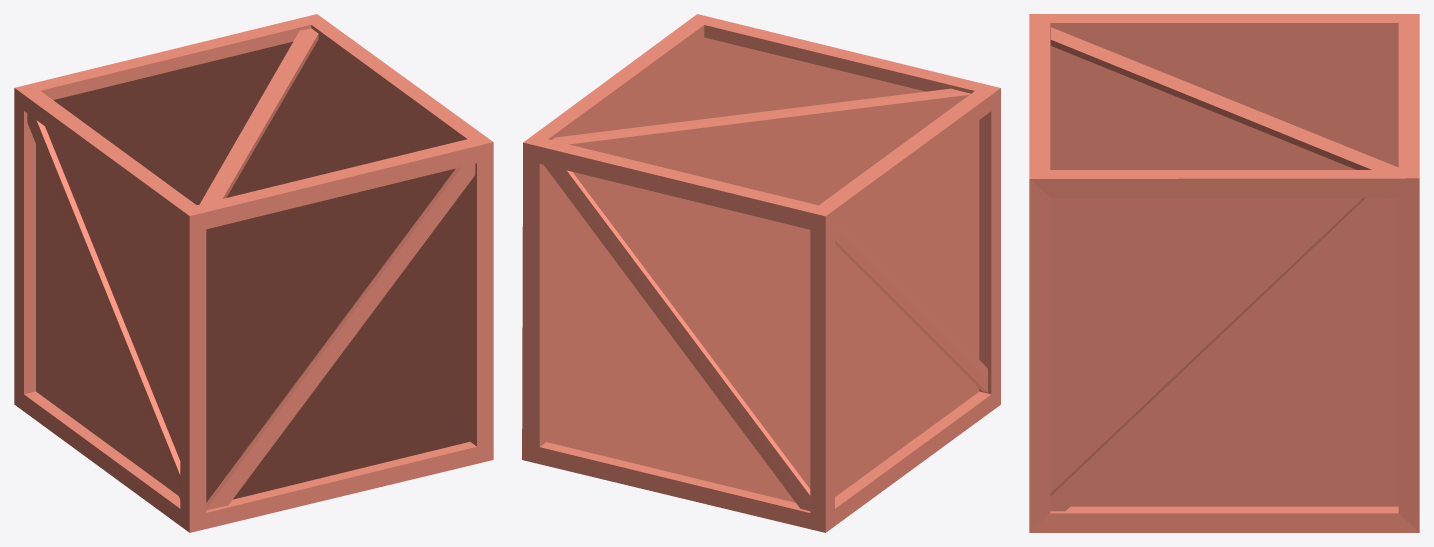
The model's file is Crate_02.fbx.
3 renders of one model, left to right at view 1: azimuth 30°, elevation 25°; view 2: azimuth 150°, elevation 25°; view 3: azimuth 270°, elevation 25°, orthographic. The views are drawn at different scales.
Visible parts, largest first — view 1: Cube (11); view 2: Cube (11); view 3: Cube (11).
Boxes of the visible parts, <box> form: Cube (11): <box>14,14,493,532</box>; Cube (11): <box>522,14,1000,532</box>; Cube (11): <box>1029,14,1419,532</box>.
Bounding box in the file's own units: 78.74 × 78.74 × 78.74.
